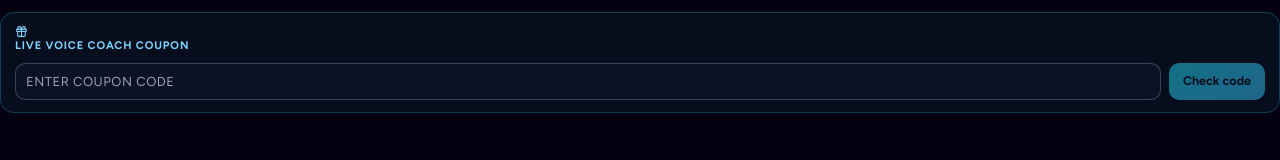
it: expired code shows the expired message
The image size is (1280, 160).
Type "old1" into the field with test id "live-coupon-input" at (588, 81), box [15,62,1161,100]
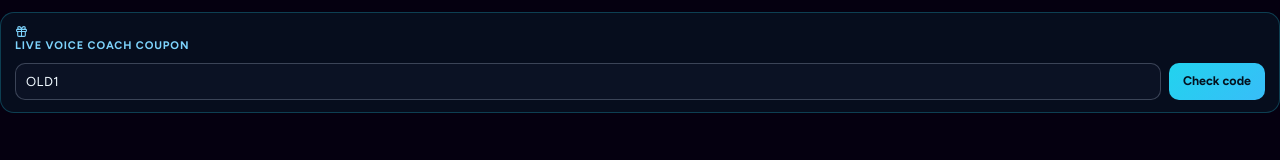
Click the button with test id "live-coupon-check-btn" at (1217, 81), box [1169,62,1265,100]
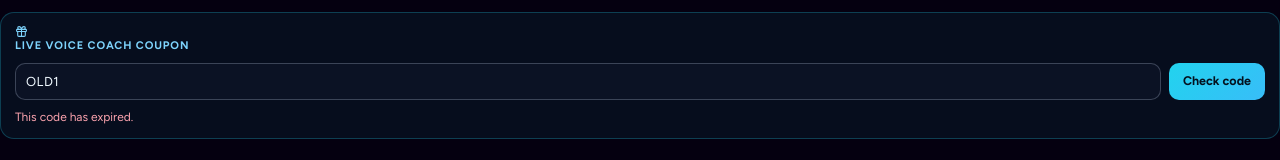
Expected: the text with test id "live-coupon-error" shows "expired", [15,110,133,124]
